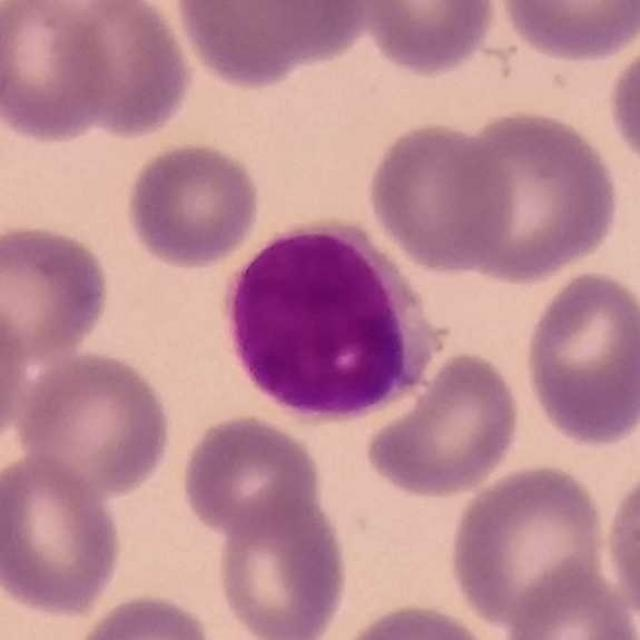Lymphocyte: (215, 216, 440, 427)
RBC: (442, 105, 624, 286), (444, 460, 613, 633), (360, 347, 526, 500), (12, 347, 176, 501), (363, 117, 517, 276), (518, 266, 640, 451), (212, 485, 352, 640), (1, 451, 127, 620), (53, 0, 195, 141), (177, 411, 325, 542), (121, 137, 265, 270), (169, 0, 369, 91), (0, 0, 117, 146), (0, 219, 115, 366), (351, 0, 502, 78), (500, 557, 640, 640), (493, 0, 640, 65), (68, 589, 224, 640), (328, 599, 506, 640), (601, 455, 640, 631), (603, 24, 640, 182), (0, 294, 31, 455)
